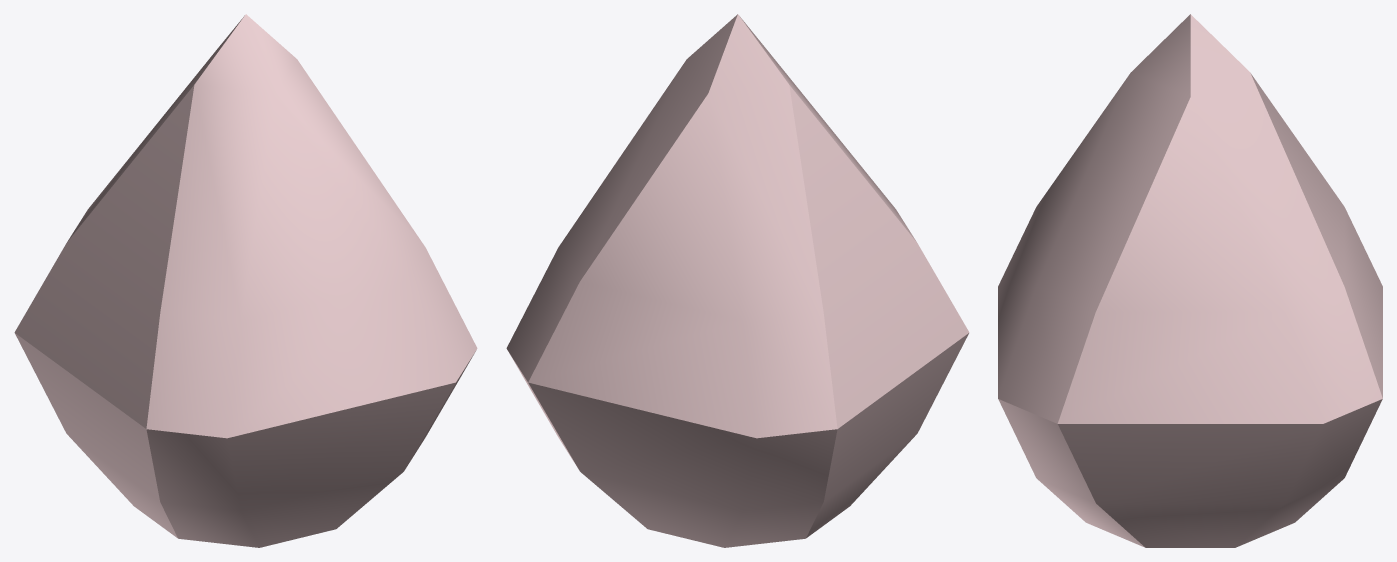
Rendered from SM_Crystal_01.fbx.
3 views of the same model, side by side, from view 1: azimuth 30°, elevation 25°; view 2: azimuth 150°, elevation 25°; view 3: azimuth 270°, elevation 25° (orthographic).
Parts seen in each view (by area): view 1: SM_Crystal_01; view 2: SM_Crystal_01; view 3: SM_Crystal_01.
Boxes of the visible parts, box(x1,y1,x2,y2) form: SM_Crystal_01: box(14, 14, 477, 547); SM_Crystal_01: box(506, 14, 969, 547); SM_Crystal_01: box(998, 14, 1382, 547).
Bounding box in the file's own units: 54.13 × 76.02 × 54.13.
